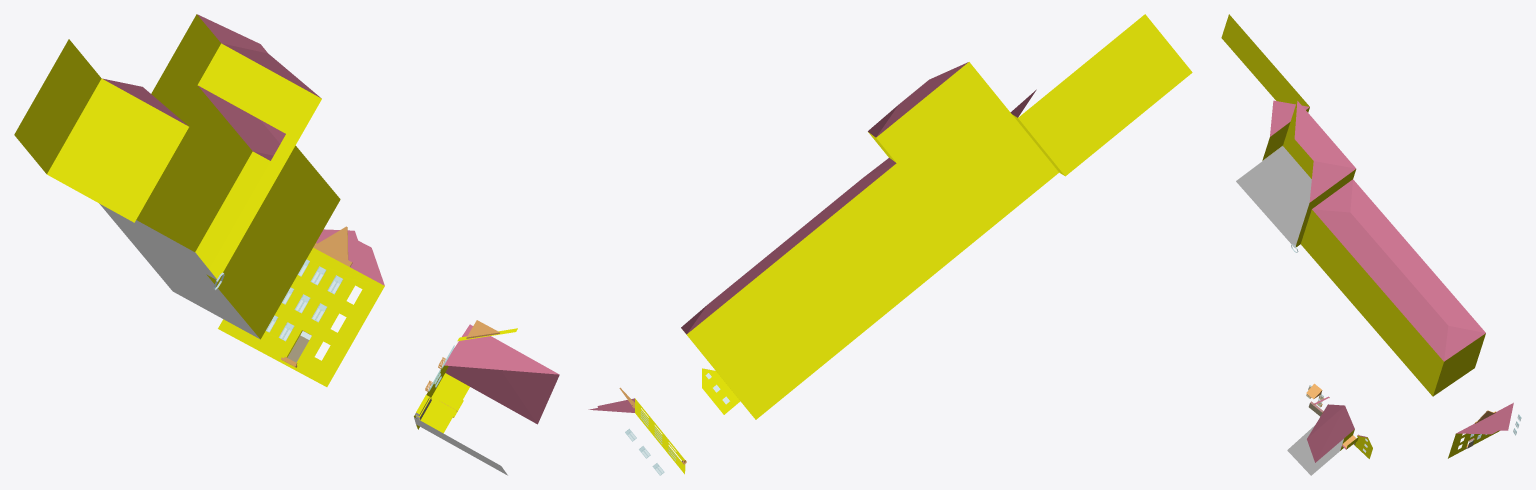
The picture shows the model from 3 angles, left to right: view 1: azimuth 30°, elevation 25°; view 2: azimuth 150°, elevation 25°; view 3: azimuth 270°, elevation 25°; orthographic projection. The views are drawn at different scales.
Visible parts, largest first — view 1: mesh; view 2: mesh; view 3: mesh.
Part boxes in pixels (box(x1,y1,x2,y2)): mesh: box(14, 14, 559, 475); mesh: box(588, 14, 1192, 475); mesh: box(1221, 14, 1521, 475).
Bounding box in the file's own units: 74.99 × 70.93 × 58.77.
